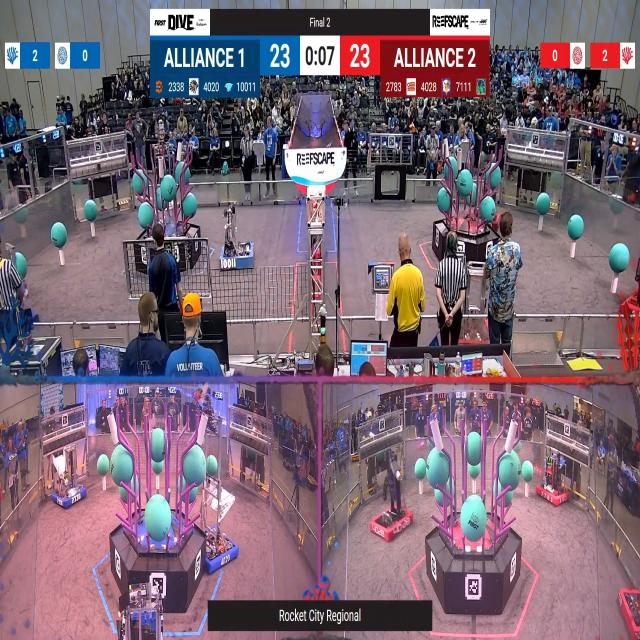scoreboard: (151, 36, 489, 98)
